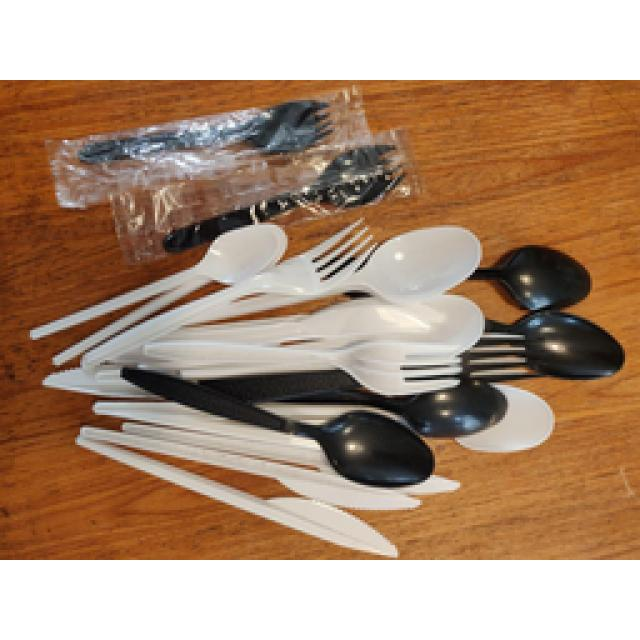inorganic: (29, 269, 452, 392), (66, 419, 420, 558), (110, 361, 430, 490), (338, 326, 476, 418), (366, 218, 492, 302), (202, 223, 284, 284)
